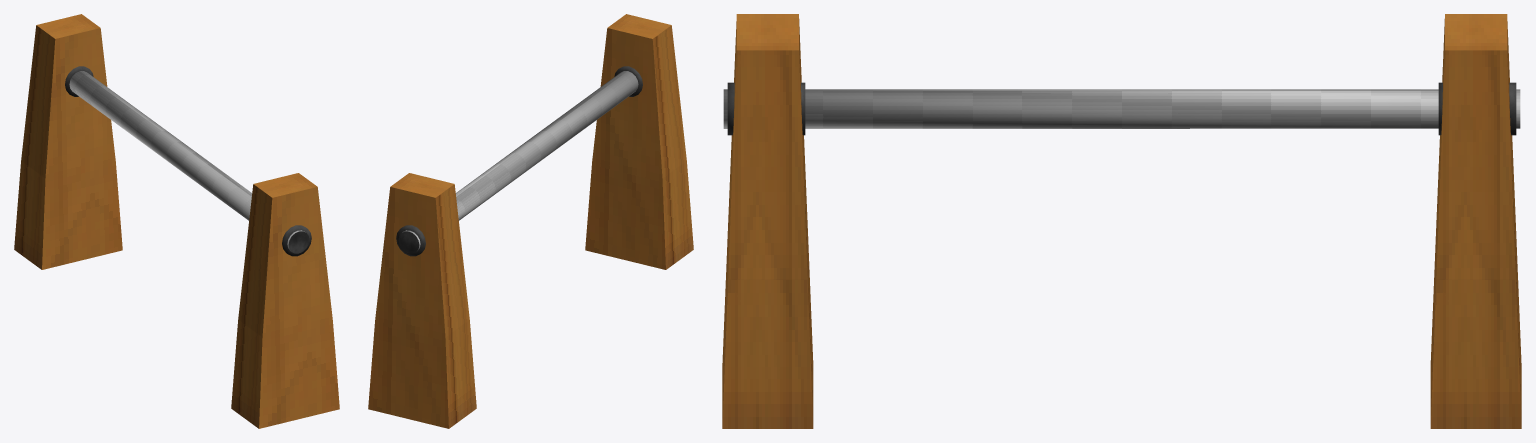
File: SpaceLaserBase.fbx
The picture shows the model from 3 angles, left to right: view 1: azimuth 30°, elevation 25°; view 2: azimuth 150°, elevation 25°; view 3: azimuth 270°, elevation 25°; orthographic projection. The views are drawn at different scales.
Visible parts, largest first — view 1: wood stand, rod, rubber circles; view 2: wood stand, rod, rubber circles; view 3: wood stand, rod, rubber circles.
Boxes of the visible parts, left/top/right/bottom form: wood stand: left=14, top=14, right=339, bottom=428; rod: left=69, top=71, right=309, bottom=253; rubber circles: left=65, top=66, right=311, bottom=256; wood stand: left=368, top=14, right=693, bottom=428; rod: left=398, top=71, right=638, bottom=253; rubber circles: left=396, top=66, right=642, bottom=256; wood stand: left=722, top=14, right=1521, bottom=428; rod: left=723, top=89, right=1520, bottom=128; rubber circles: left=727, top=82, right=1516, bottom=135.
Size of the model in its own units: 5.18 by 13.69 by 27.19.
3 materials, 3 textured.
